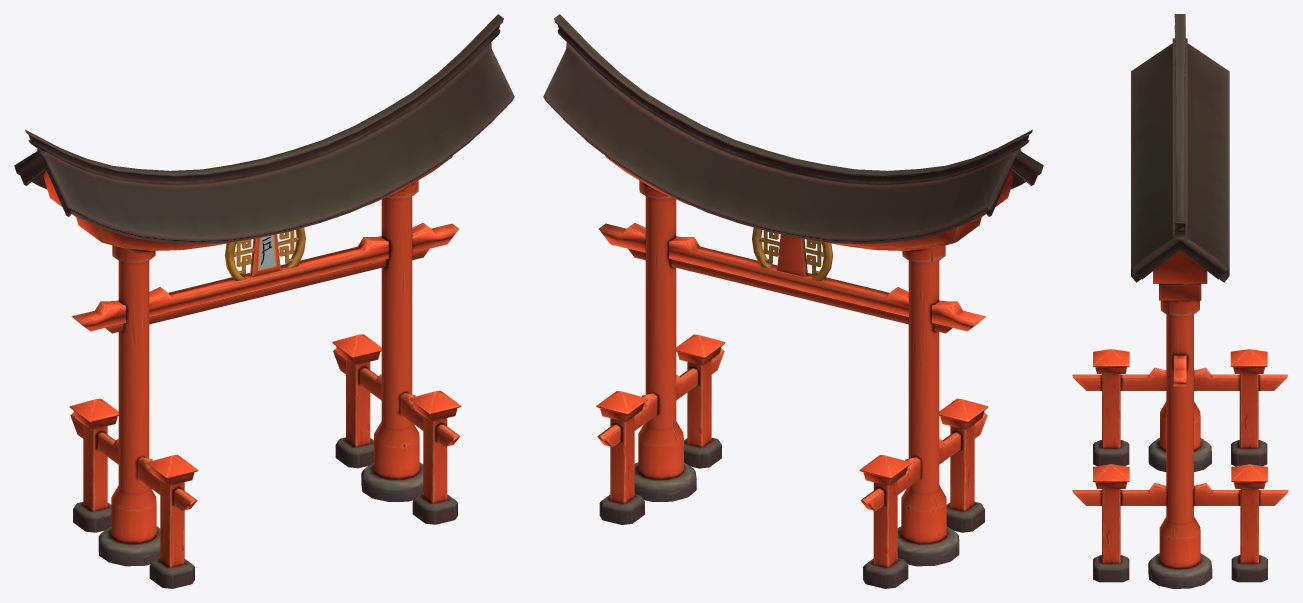
File: Torii.fbx
3 views of the same model, side by side, from view 1: azimuth 30°, elevation 25°; view 2: azimuth 150°, elevation 25°; view 3: azimuth 270°, elevation 25° (orthographic). The views are drawn at different scales.
Parts seen in each view (by area): view 1: Torii; view 2: Torii; view 3: Torii.
Boxes of the visible parts, box(x1,y1,x2,y2) form: Torii: box(14, 14, 514, 588); Torii: box(543, 14, 1043, 588); Torii: box(1072, 14, 1288, 588).
Size of the model in its own units: 163 by 146 by 71.85.
1 material, 1 textured.
